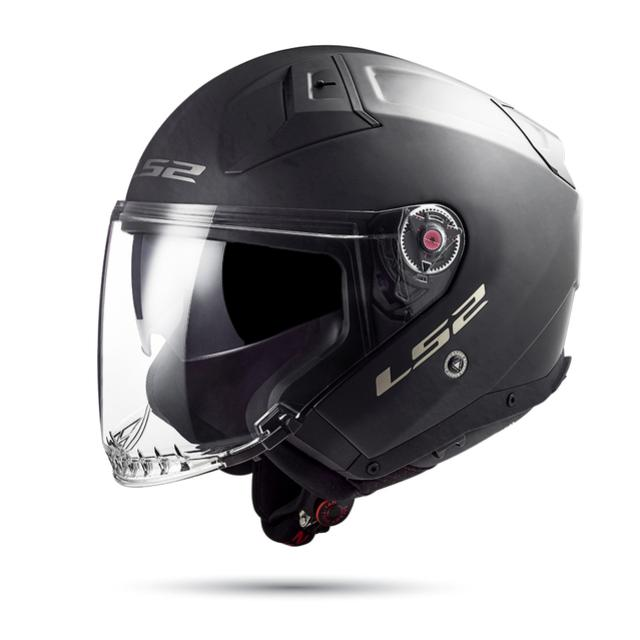Helmet: (90, 41, 585, 546)
